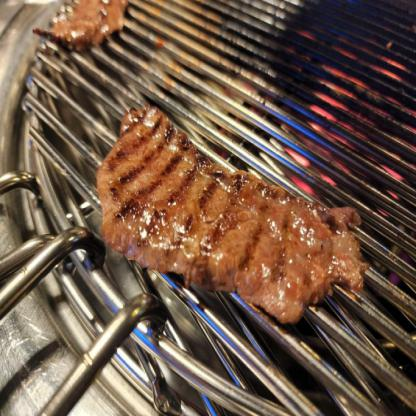Carne: (99, 100, 366, 321)
